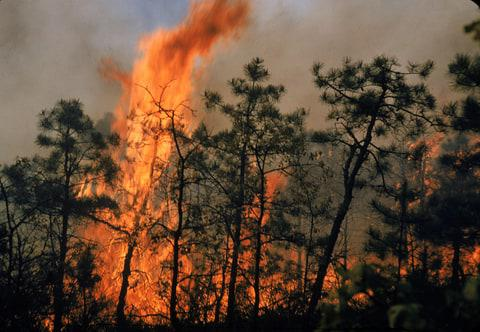fire: (99, 4, 248, 309), (254, 171, 320, 304)
